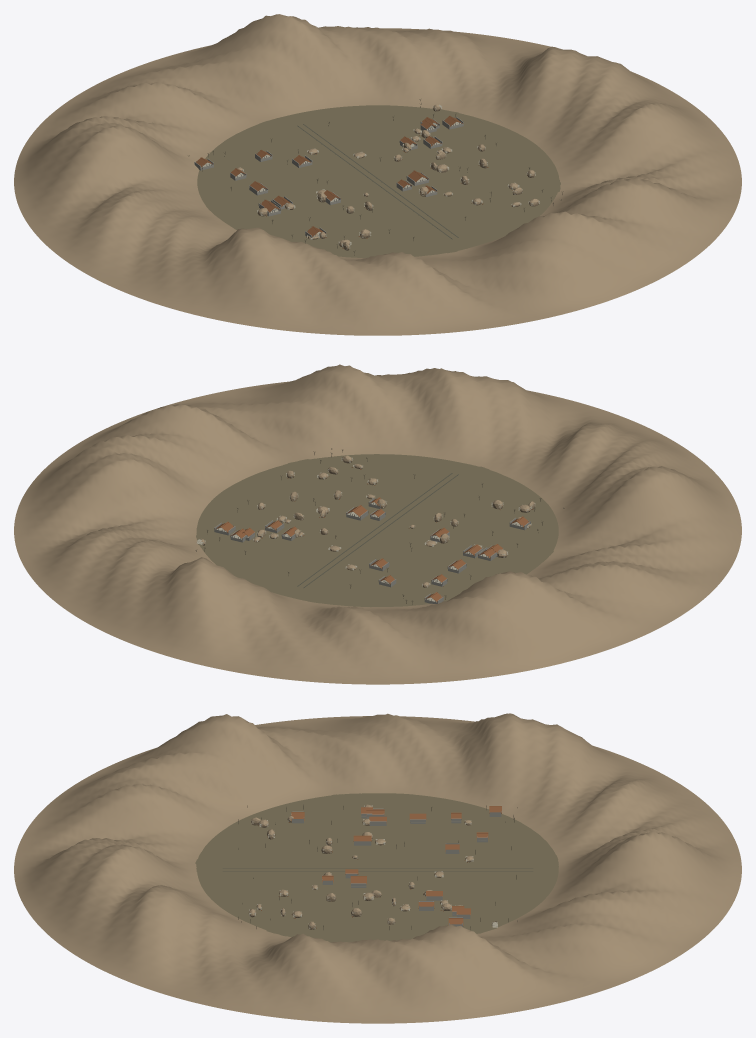
File: mud.glb
3 views of the same model, one above another, from view 1: azimuth 30°, elevation 25°; view 2: azimuth 150°, elevation 25°; view 3: azimuth 270°, elevation 25° (orthographic).
Parts seen in each view (by area): view 1: static_environment.004; view 2: static_environment.004; view 3: static_environment.004.
Part boxes in pixels (box(x1,y1,x2,y2)): static_environment.004: box(14, 14, 741, 335); static_environment.004: box(14, 364, 741, 684); static_environment.004: box(14, 713, 741, 1023).
Size of the model in its own units: 832 by 75.42 by 832.
